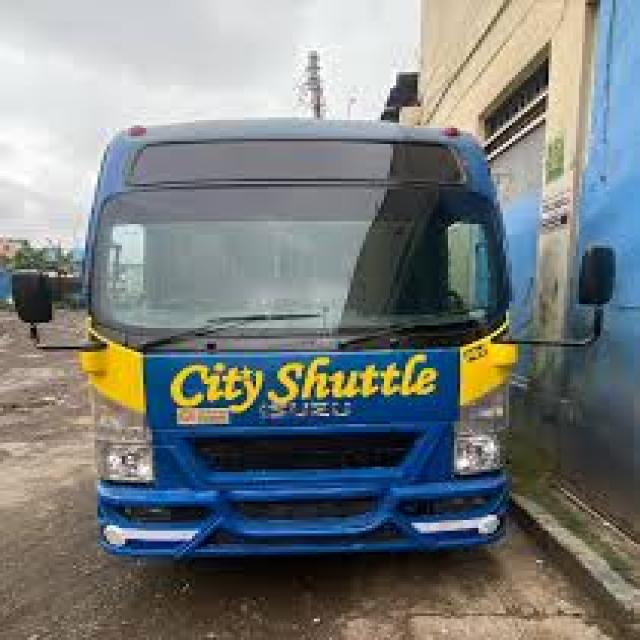bus: (4, 33, 632, 627)
